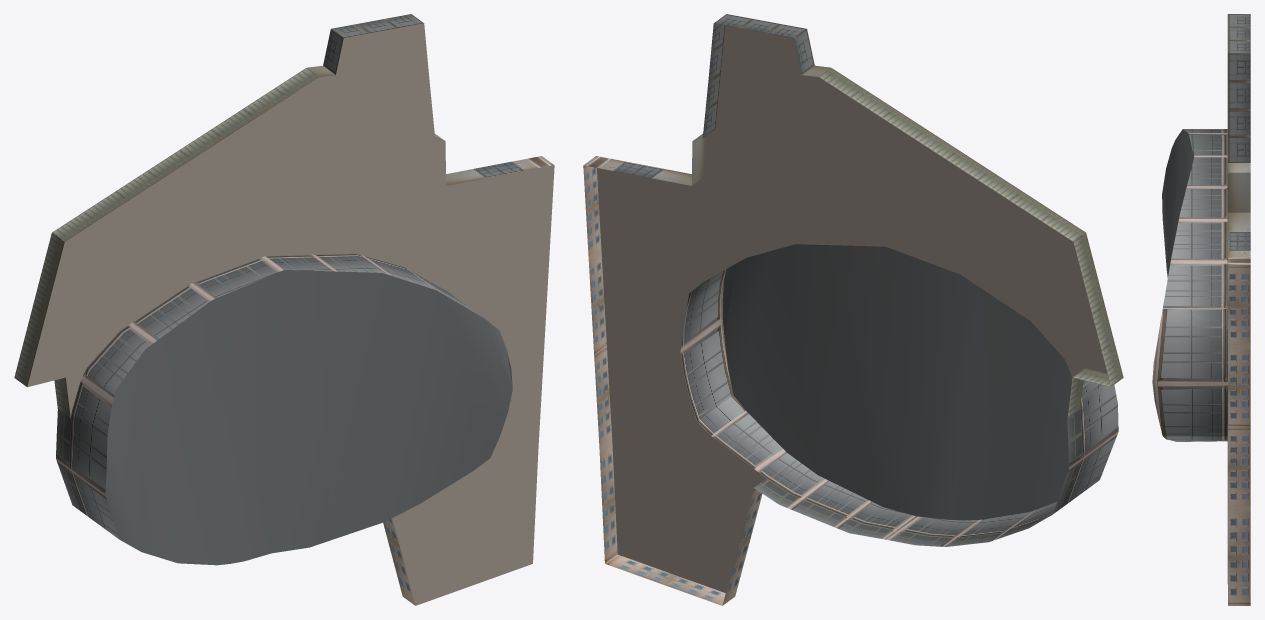
The model's file is DEU_605_KARLSRUHE_SCHWARZ_L.OBJ.
3 renders of one model, left to right at view 1: azimuth 30°, elevation 25°; view 2: azimuth 150°, elevation 25°; view 3: azimuth 270°, elevation 25°, orthographic. The views are drawn at different scales.
Parts seen in each view (by area): view 1: DEU_605_KARLSRUHE_SCHWARZ_L_DEU_605_KARLSRUHE_SCHWARZ; view 2: DEU_605_KARLSRUHE_SCHWARZ_L_DEU_605_KARLSRUHE_SCHWARZ; view 3: DEU_605_KARLSRUHE_SCHWARZ_L_DEU_605_KARLSRUHE_SCHWARZ.
Part boxes in pixels (x1,y1,x2,y2): DEU_605_KARLSRUHE_SCHWARZ_L_DEU_605_KARLSRUHE_SCHWARZ: (14, 14, 554, 605); DEU_605_KARLSRUHE_SCHWARZ_L_DEU_605_KARLSRUHE_SCHWARZ: (583, 14, 1123, 605); DEU_605_KARLSRUHE_SCHWARZ_L_DEU_605_KARLSRUHE_SCHWARZ: (1152, 14, 1250, 605).
Bounding box in the file's own units: 95.74 × 102 × 17.35.
1 material, 1 textured.
